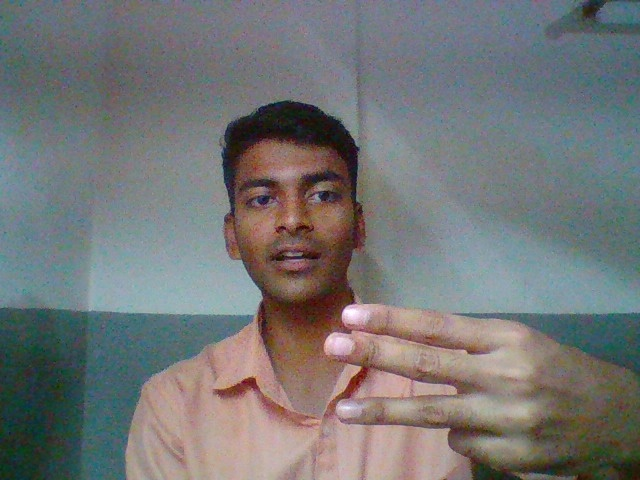E: (308, 283, 634, 473)
